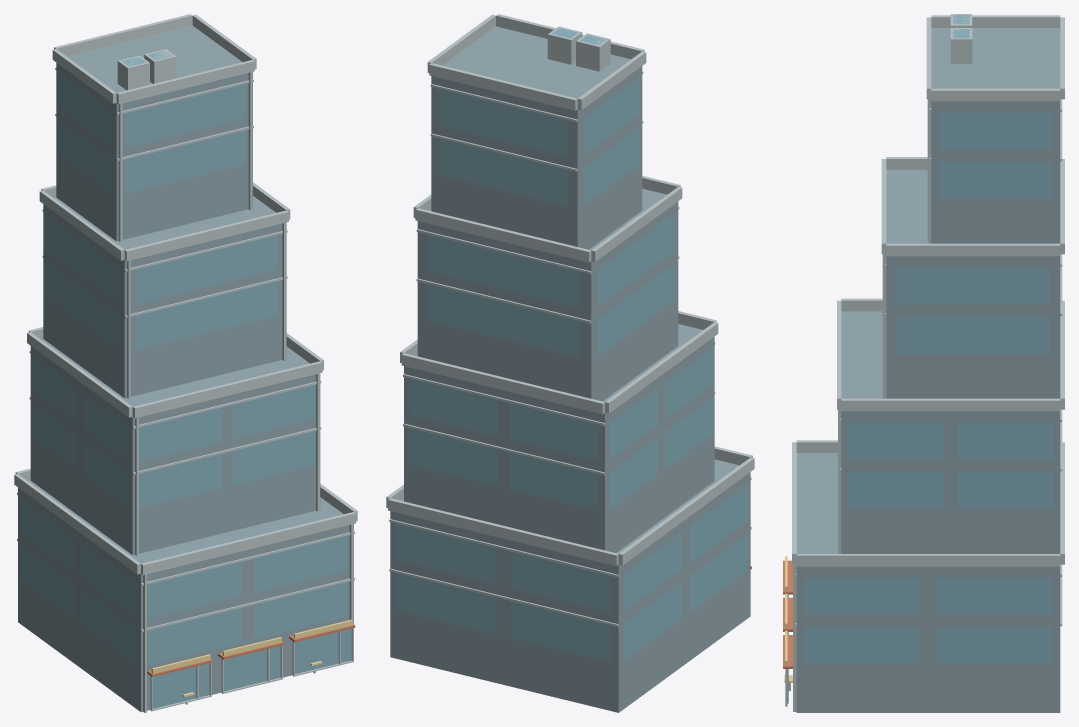
Rendered from commercial_2x2_terraces.glb.
3 views of the same model, side by side, from view 1: azimuth 30°, elevation 25°; view 2: azimuth 150°, elevation 25°; view 3: azimuth 270°, elevation 25° (orthographic). The views are drawn at different scales.
Visible parts, largest first — view 1: commercial_2x2_terraces_0; view 2: commercial_2x2_terraces_0; view 3: commercial_2x2_terraces_0.
Part boxes in pixels (bbox=[...]): commercial_2x2_terraces_0: bbox=[14, 14, 357, 712]; commercial_2x2_terraces_0: bbox=[386, 14, 754, 712]; commercial_2x2_terraces_0: bbox=[783, 14, 1064, 712].
Bounding box in the file's own units: 15 × 37.5 × 15.5.
